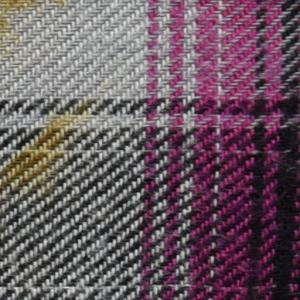Oil Stain: (1, 97, 98, 210), (1, 1, 74, 60)
